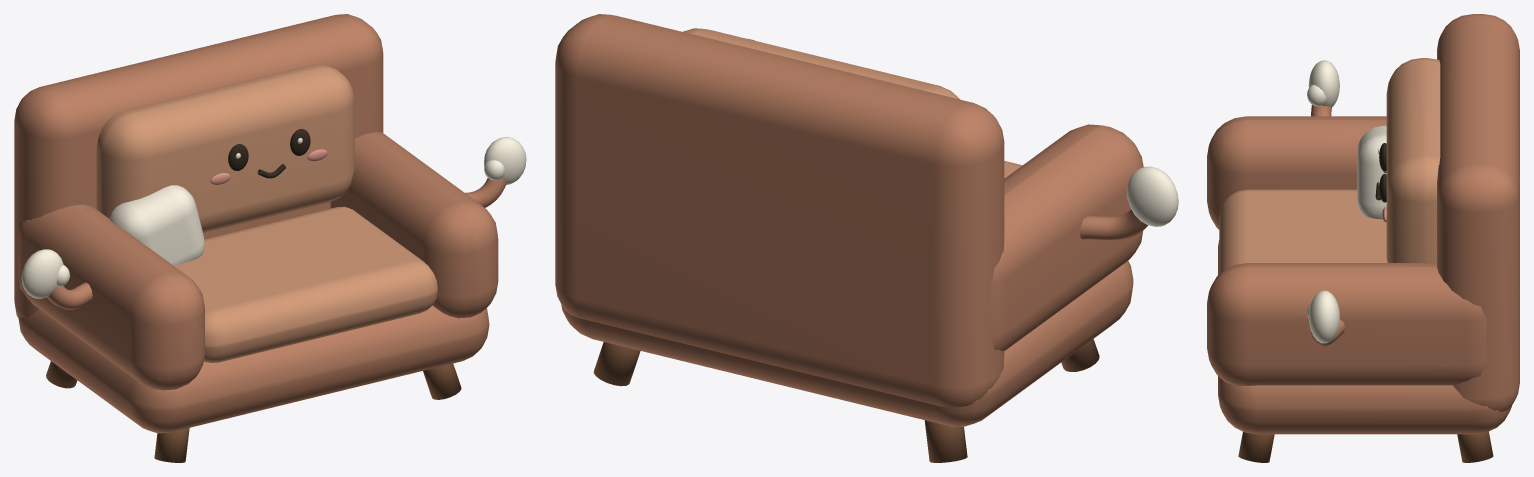
Rendered from armchair.glb.
3 views of the same model, side by side, from view 1: azimuth 30°, elevation 25°; view 2: azimuth 150°, elevation 25°; view 3: azimuth 270°, elevation 25° (orthographic). The views are drawn at different scales.
Parts seen in each view (by area): view 1: Подушка спинки, Спинка, Подушка сиденья, Основание, Подлокотник, Подлокотник.001, Декоративная подушка, Face_Hand, Face_Hand.001, Ножка.002, Ножка, Face_Arm (+1 smaller); view 2: Спинка, Подлокотник, Основание, Подушка спинки, Face_Hand, Face_Arm, Ножка.003, Ножка.001, Ножка; view 3: Подлокотник.001, Спинка, Основание, Подлокотник, Подушка сиденья, Подушка спинки, Декоративная подушка, Face_Hand.001, Face_Hand, Ножка.002, Ножка.003, Face_Thumb.
Part boxes in pixels (x1,y1,x2,y2): Подушка спинки: [96, 64, 354, 232]; Спинка: [14, 14, 383, 317]; Подушка сиденья: [174, 206, 437, 362]; Основание: [18, 305, 489, 433]; Подлокотник: [18, 204, 204, 390]; Подлокотник.001: [330, 132, 498, 318]; Декоративная подушка: [109, 185, 204, 265]; Face_Hand: [21, 249, 63, 298]; Face_Hand.001: [484, 137, 526, 184]; Ножка.002: [423, 363, 461, 399]; Ножка: [154, 428, 189, 462]; Face_Arm: [47, 282, 92, 309]; Спинка: [555, 14, 1004, 407]; Подлокотник: [990, 124, 1143, 351]; Основание: [561, 261, 1133, 426]; Подушка спинки: [683, 28, 959, 99]; Face_Hand: [1126, 166, 1178, 226]; Face_Arm: [1080, 209, 1148, 240]; Ножка.003: [593, 342, 640, 386]; Ножка.001: [924, 420, 967, 462]; Ножка: [1061, 339, 1099, 371]; Подлокотник.001: [1207, 263, 1486, 385]; Спинка: [1437, 14, 1519, 411]; Основание: [1218, 240, 1511, 434]; Подлокотник: [1207, 116, 1386, 229]; Подушка сиденья: [1219, 189, 1387, 273]; Подушка спинки: [1386, 58, 1440, 262]; Декоративная подушка: [1357, 125, 1386, 219]; Face_Hand.001: [1308, 290, 1339, 343]; Face_Hand: [1308, 60, 1339, 106]; Ножка.002: [1238, 432, 1274, 462]; Ножка.003: [1457, 431, 1493, 462]; Face_Thumb: [1307, 84, 1326, 106].
Bounding box in the file's own units: 2.43 × 1.37 × 1.28.
